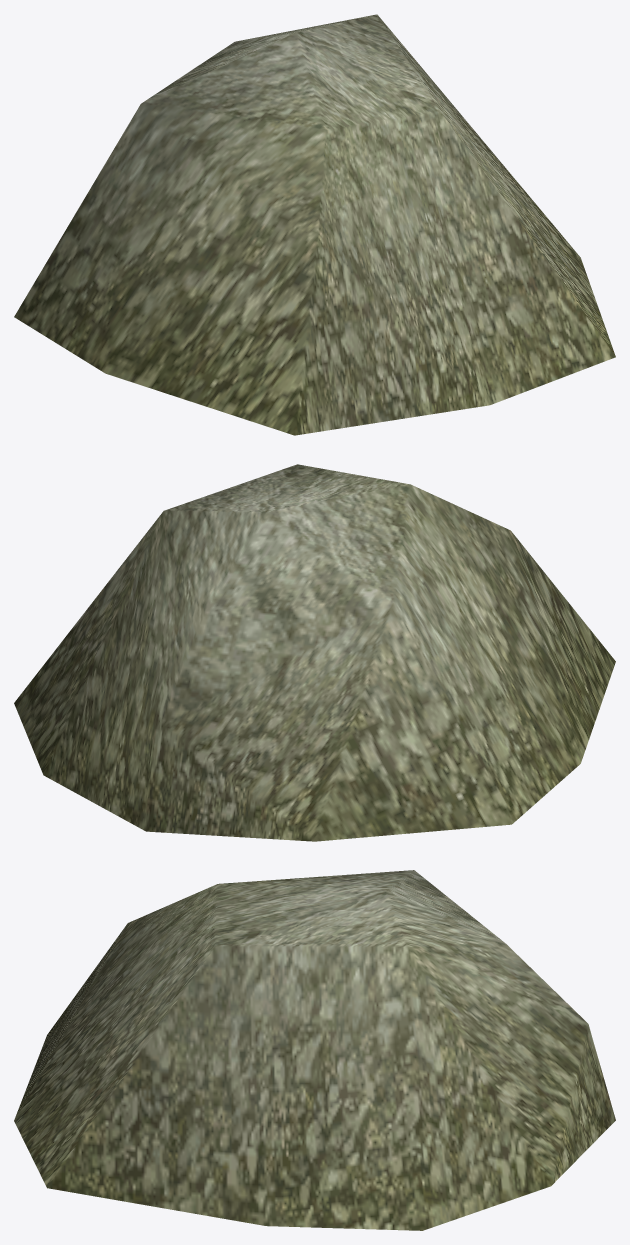
File: elwynncliffrock02.glb
3 renders of one model, top to bottom at view 1: azimuth 30°, elevation 25°; view 2: azimuth 150°, elevation 25°; view 3: azimuth 270°, elevation 25°, orthographic. The views are drawn at different scales.
Bounding box in the file's own units: 17.73 × 7.98 × 19.01.
Materials: 1 (1 with a texture image).
